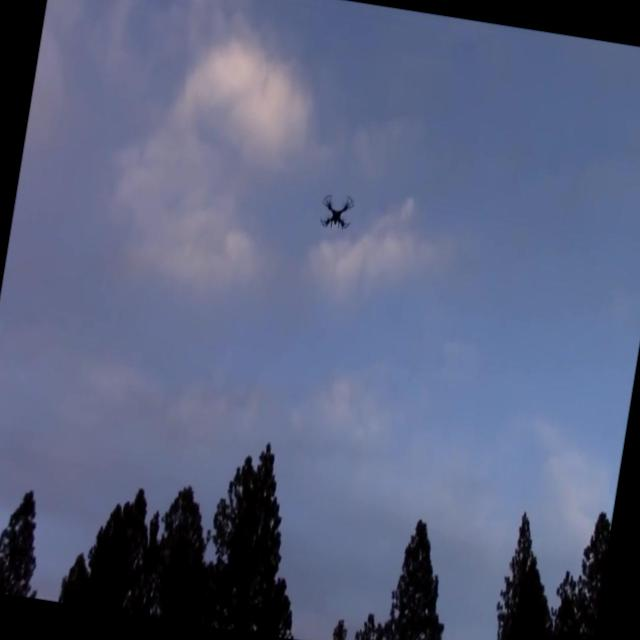drone: (316, 188, 356, 238)
